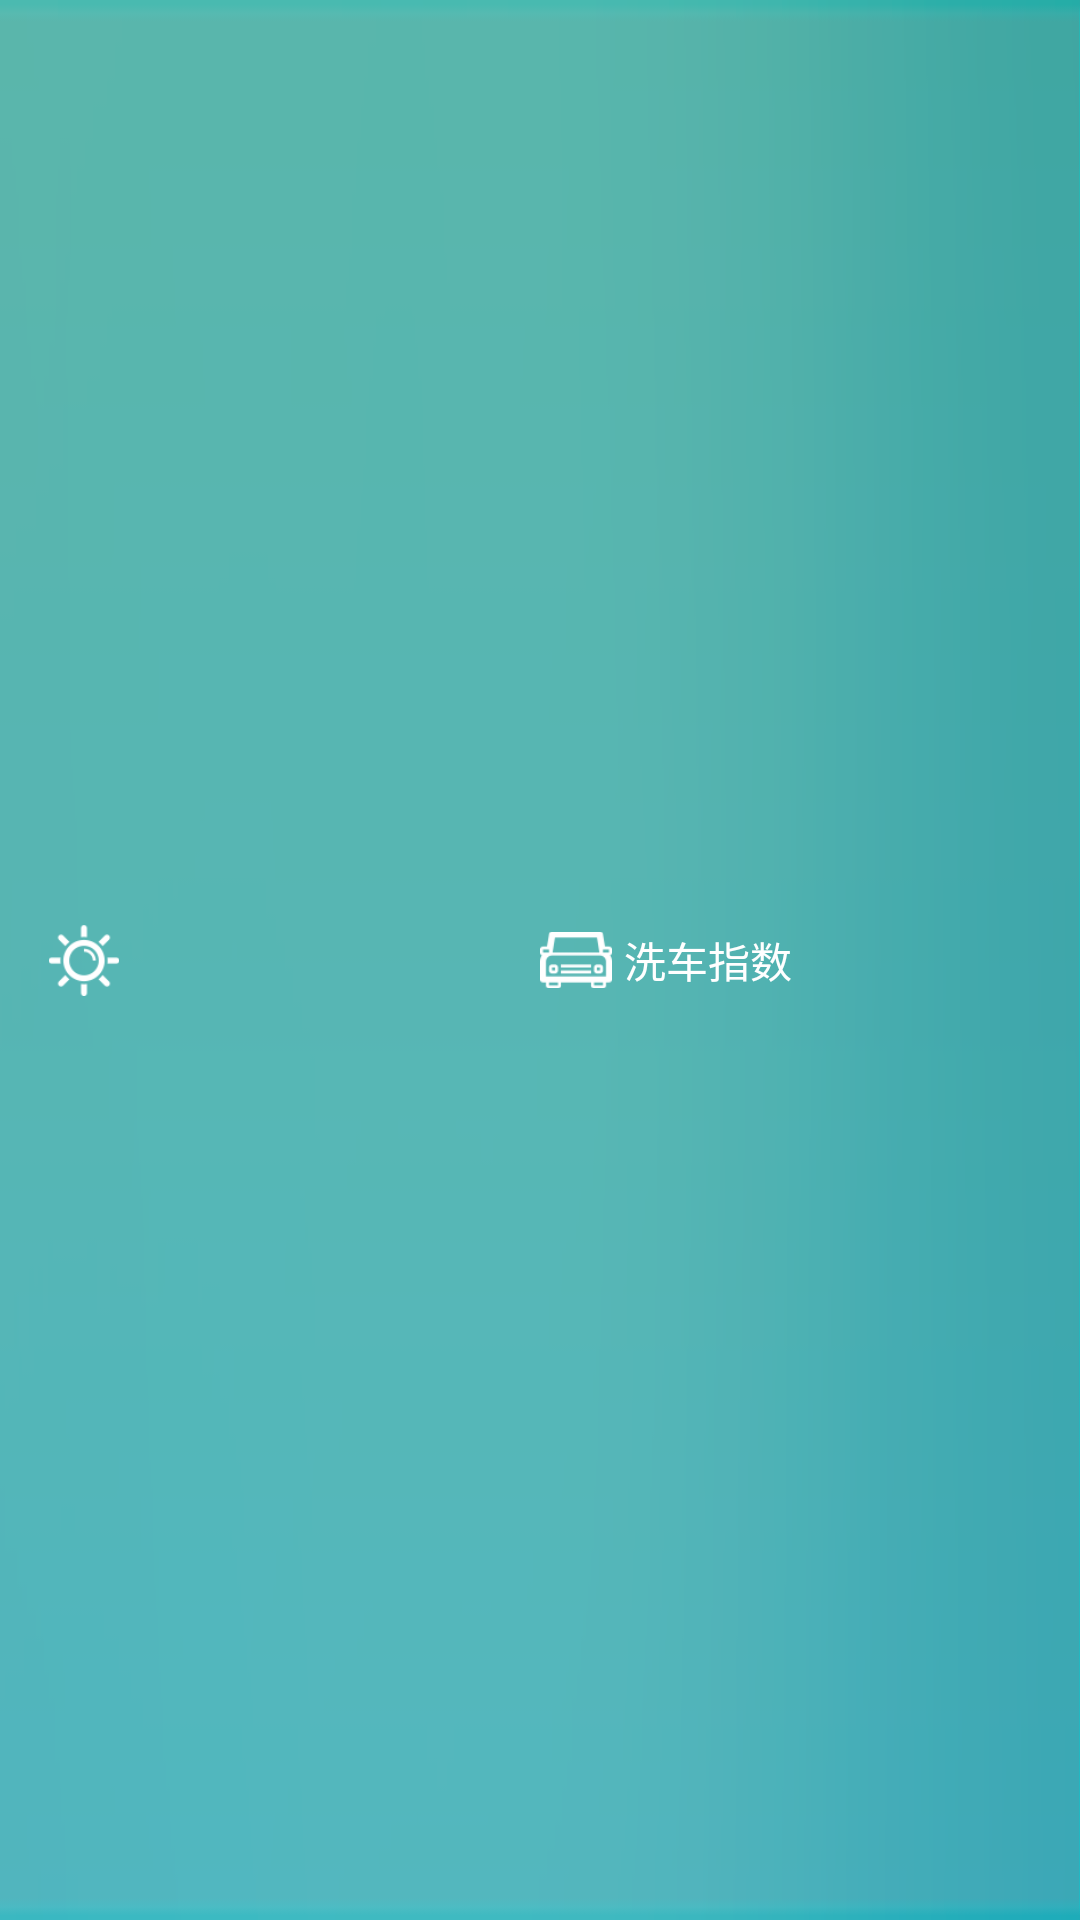

Where to tap for icons on this 1080 × 1920 app screen, as point (x, y):
info pannel car: point (576, 960)
info pannel sun: point (84, 960)
